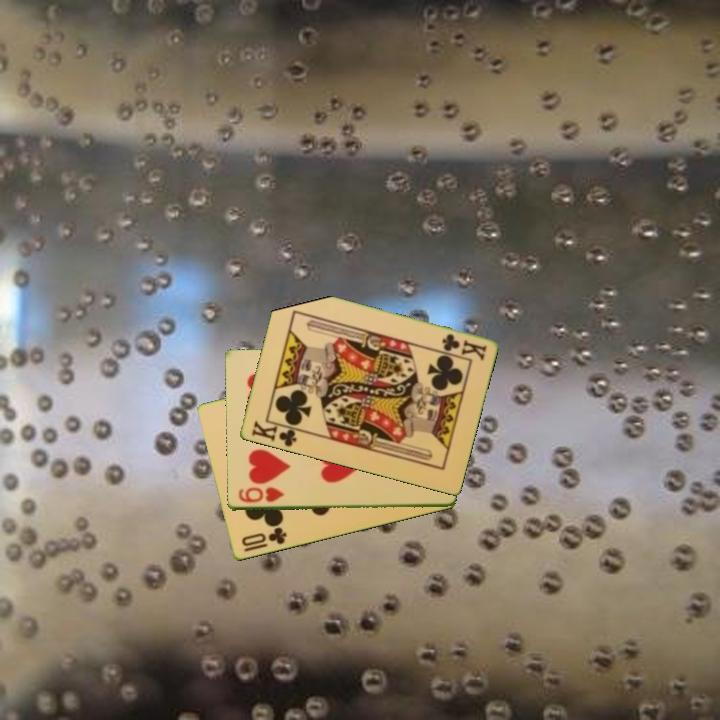10c: (238, 524, 290, 555)
6h: (235, 484, 287, 505)
Kc: (248, 417, 304, 450), (438, 330, 489, 363)
